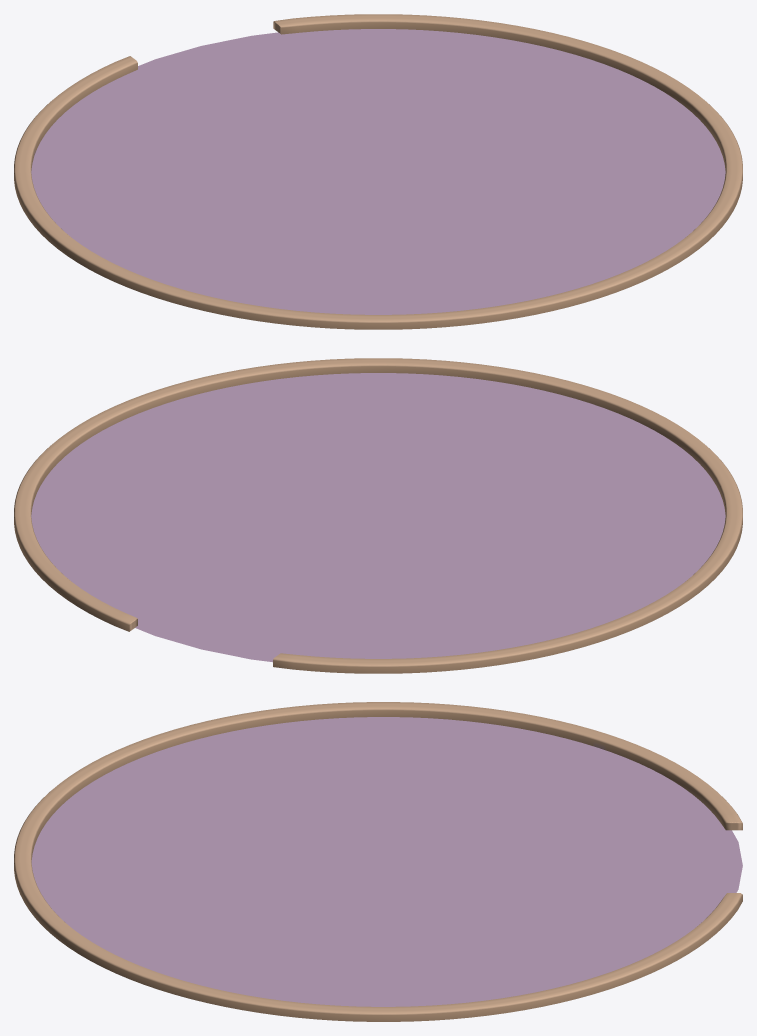
File: LuffyRoad_Stage_Cicle.fbx
The picture shows the model from 3 angles, top to bottom: view 1: azimuth 30°, elevation 25°; view 2: azimuth 150°, elevation 25°; view 3: azimuth 270°, elevation 25°; orthographic projection.
Visible parts, largest first — view 1: LUFFY_Road_stage_tron; view 2: LUFFY_Road_stage_tron; view 3: LUFFY_Road_stage_tron.
Boxes of the visible parts, bbox=[...] form: LUFFY_Road_stage_tron: bbox=[14, 14, 742, 329]; LUFFY_Road_stage_tron: bbox=[14, 358, 742, 673]; LUFFY_Road_stage_tron: bbox=[14, 702, 742, 1021].
Bounding box in the file's own units: 2199 × 27.5 × 2169.
